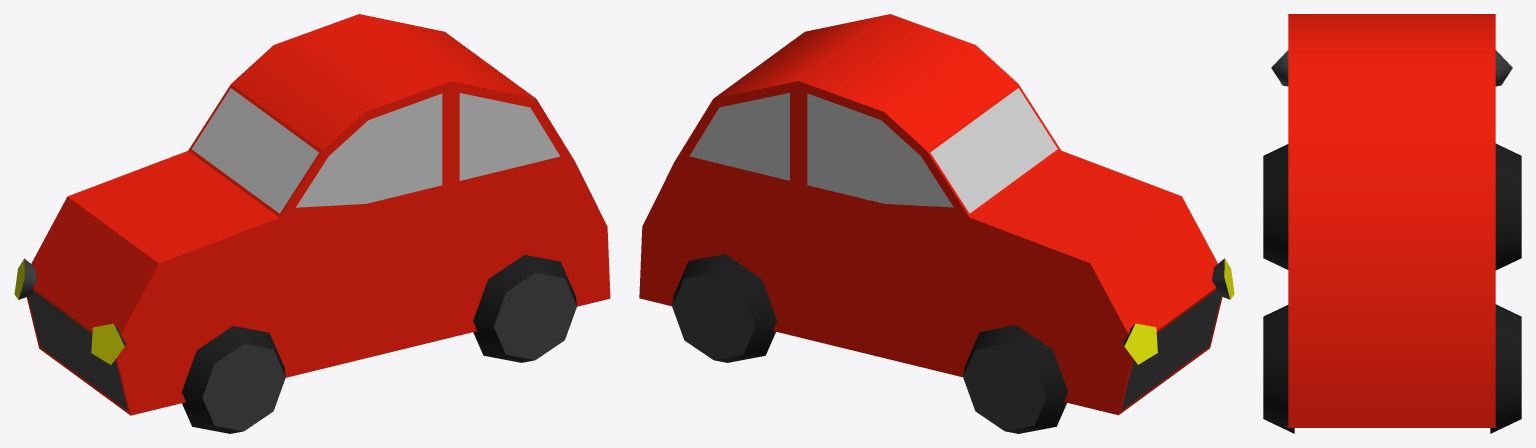
The model's file is Wooden_Car.FBX.
3 views of the same model, side by side, from view 1: azimuth 30°, elevation 25°; view 2: azimuth 150°, elevation 25°; view 3: azimuth 270°, elevation 25° (orthographic). The views are drawn at different scales.
Parts seen in each view (by area): view 1: Wooden_Car; view 2: Wooden_Car; view 3: Wooden_Car.
Part boxes in pixels (x1,y1,x2,y2): Wooden_Car: (14,14,610,433); Wooden_Car: (639,14,1234,433); Wooden_Car: (1263,14,1521,433).
Bounding box in the file's own units: 112 × 63.34 × 43.43.
